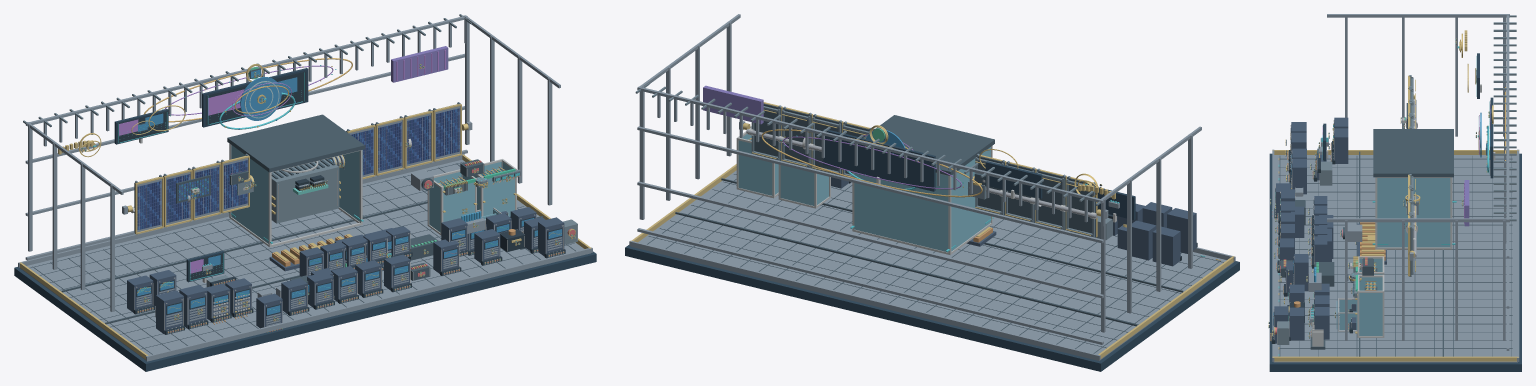
The model's file is Level83_Complete_ArtKit_Showcase.glb.
The picture shows the model from 3 angles, left to right: view 1: azimuth 30°, elevation 25°; view 2: azimuth 150°, elevation 25°; view 3: azimuth 270°, elevation 25°; orthographic projection. The views are drawn at different scales.
Parts seen in each view (by area): view 1: Level83_Complete_ArtKit_Showcase_Node_0001, Level83_Complete_ArtKit_Showcase_Node_0000, Level83_Complete_ArtKit_Showcase_Node_0582, Level83_Complete_ArtKit_Showcase_Node_0664, Level83_Complete_ArtKit_Showcase_Node_0043, Level83_Complete_ArtKit_Showcase_Node_0137, Level83_Complete_ArtKit_Showcase_Node_0580, Level83_Complete_ArtKit_Showcase_Node_0042, Level83_Complete_ArtKit_Showcase_Node_3428, Level83_Complete_ArtKit_Showcase_Node_3668, Level83_Complete_ArtKit_Showcase_Node_0581, Level83_Complete_ArtKit_Showcase_Node_8376 (+37 smaller); view 2: Level83_Complete_ArtKit_Showcase_Node_0001, Level83_Complete_ArtKit_Showcase_Node_0000, Level83_Complete_ArtKit_Showcase_Node_0579, Level83_Complete_ArtKit_Showcase_Node_8375, Level83_Complete_ArtKit_Showcase_Node_0582, Level83_Complete_ArtKit_Showcase_Node_0042, Level83_Complete_ArtKit_Showcase_Node_0135, Level83_Complete_ArtKit_Showcase_Node_0136, Level83_Complete_ArtKit_Showcase_Node_0134, Level83_Complete_ArtKit_Showcase_Node_0137, Level83_Complete_ArtKit_Showcase_Node_0580, Level83_Complete_ArtKit_Showcase_Node_5852 (+32 smaller); view 3: Level83_Complete_ArtKit_Showcase_Node_0001, Level83_Complete_ArtKit_Showcase_Node_0581, Level83_Complete_ArtKit_Showcase_Node_0000, Level83_Complete_ArtKit_Showcase_Node_0582, Level83_Complete_ArtKit_Showcase_Node_0041, Level83_Complete_ArtKit_Showcase_Node_5855, Level83_Complete_ArtKit_Showcase_Node_0147, Level83_Complete_ArtKit_Showcase_Node_0137, Level83_Complete_ArtKit_Showcase_Node_0146, Level83_Complete_ArtKit_Showcase_Node_0042, Level83_Complete_ArtKit_Showcase_Node_0043, Level83_Complete_ArtKit_Showcase_Node_6816 (+33 smaller).
Part boxes in pixels (x1=…): Level83_Complete_ArtKit_Showcase_Node_0001: x1=20, y1=159, x2=590, y2=361; Level83_Complete_ArtKit_Showcase_Node_0000: x1=14, y1=251, x2=596, y2=371; Level83_Complete_ArtKit_Showcase_Node_0582: x1=227, y1=114, x2=364, y2=172; Level83_Complete_ArtKit_Showcase_Node_0664: x1=271, y1=159, x2=339, y2=223; Level83_Complete_ArtKit_Showcase_Node_0043: x1=146, y1=247, x2=592, y2=361; Level83_Complete_ArtKit_Showcase_Node_0137: x1=25, y1=15, x2=467, y2=126; Level83_Complete_ArtKit_Showcase_Node_0580: x1=231, y1=145, x2=268, y2=243; Level83_Complete_ArtKit_Showcase_Node_0042: x1=18, y1=154, x2=464, y2=267; Level83_Complete_ArtKit_Showcase_Node_3428: x1=391, y1=46, x2=448, y2=82; Level83_Complete_ArtKit_Showcase_Node_3668: x1=240, y1=77, x2=281, y2=120; Level83_Complete_ArtKit_Showcase_Node_0581: x1=339, y1=151, x2=359, y2=221; Level83_Complete_ArtKit_Showcase_Node_8376: x1=205, y1=71, x2=306, y2=125; Level83_Complete_ArtKit_Showcase_Node_0001: x1=631, y1=170, x2=1233, y2=360; Level83_Complete_ArtKit_Showcase_Node_0000: x1=625, y1=245, x2=1239, y2=371; Level83_Complete_ArtKit_Showcase_Node_0579: x1=854, y1=173, x2=948, y2=251; Level83_Complete_ArtKit_Showcase_Node_8375: x1=823, y1=129, x2=935, y2=191; Level83_Complete_ArtKit_Showcase_Node_0582: x1=863, y1=115, x2=994, y2=175; Level83_Complete_ArtKit_Showcase_Node_0042: x1=629, y1=240, x2=1100, y2=360; Level83_Complete_ArtKit_Showcase_Node_0135: x1=637, y1=181, x2=1103, y2=298; Level83_Complete_ArtKit_Showcase_Node_0136: x1=637, y1=126, x2=1103, y2=243; Level83_Complete_ArtKit_Showcase_Node_0134: x1=637, y1=228, x2=1103, y2=344; Level83_Complete_ArtKit_Showcase_Node_0137: x1=637, y1=86, x2=1103, y2=203; Level83_Complete_ArtKit_Showcase_Node_0580: x1=951, y1=147, x2=990, y2=251; Level83_Complete_ArtKit_Showcase_Node_5852: x1=738, y1=140, x2=772, y2=195; Level83_Complete_ArtKit_Showcase_Node_0001: x1=1273, y1=155, x2=1517, y2=362; Level83_Complete_ArtKit_Showcase_Node_0581: x1=1377, y1=178, x2=1450, y2=247; Level83_Complete_ArtKit_Showcase_Node_0000: x1=1269, y1=153, x2=1521, y2=371; Level83_Complete_ArtKit_Showcase_Node_0582: x1=1373, y1=129, x2=1453, y2=177; Level83_Complete_ArtKit_Showcase_Node_0041: x1=1272, y1=356, x2=1518, y2=361; Level83_Complete_ArtKit_Showcase_Node_5855: x1=1359, y1=293, x2=1382, y2=335; Level83_Complete_ArtKit_Showcase_Node_0147: x1=1327, y1=218, x2=1509, y2=222; Level83_Complete_ArtKit_Showcase_Node_0137: x1=1506, y1=15, x2=1509, y2=222; Level83_Complete_ArtKit_Showcase_Node_0146: x1=1327, y1=14, x2=1509, y2=17; Level83_Complete_ArtKit_Showcase_Node_0042: x1=1517, y1=149, x2=1519, y2=361; Level83_Complete_ArtKit_Showcase_Node_0043: x1=1272, y1=149, x2=1274, y2=361; Level83_Complete_ArtKit_Showcase_Node_6816: x1=1289, y1=307, x2=1304, y2=340.
Bounding box in the file's own units: 26.2 × 9.29 × 13.32.
